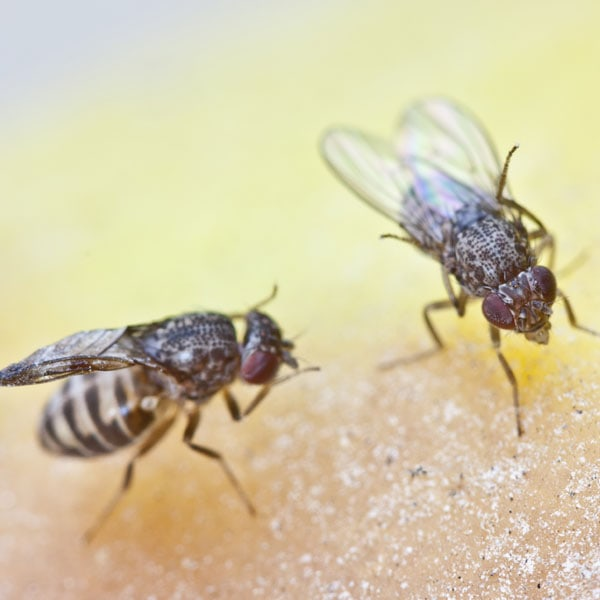Fruit fly: (304, 84, 600, 443), (1, 286, 290, 517)
